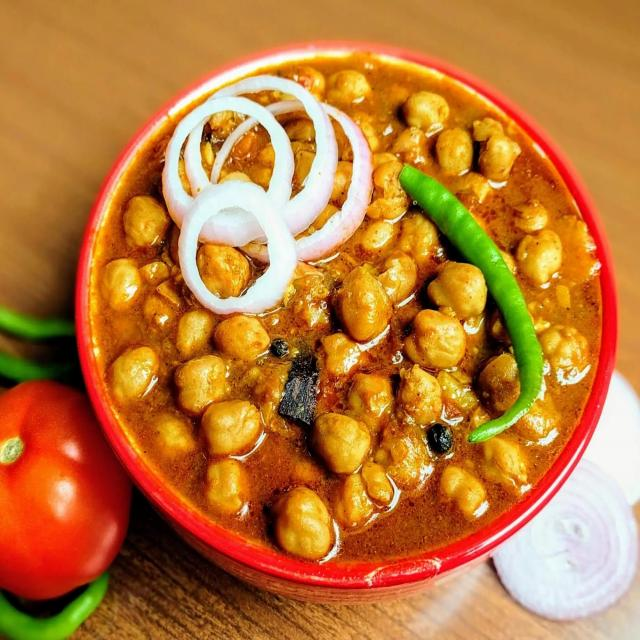Chole: (90, 58, 604, 563)
